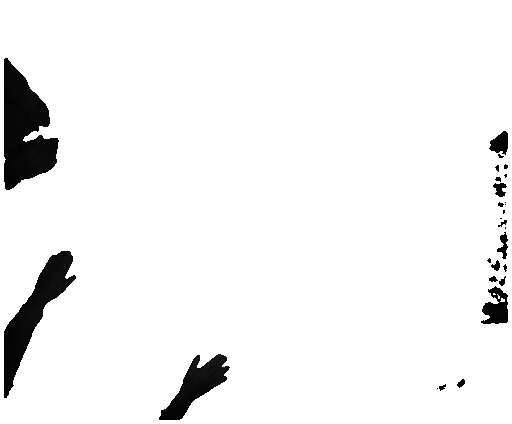hand: (35, 248, 79, 309), (182, 352, 231, 401)
